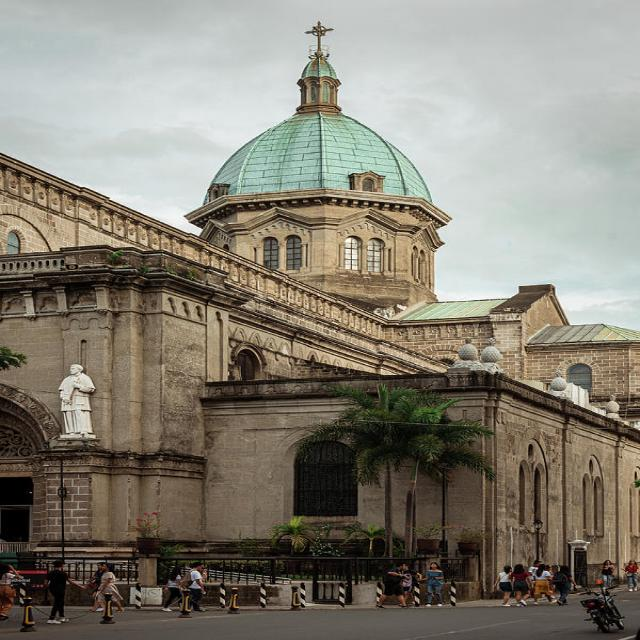Manila Cathedral: (0, 9, 640, 607)
